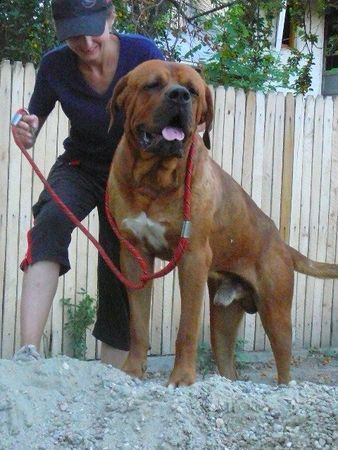human_face: (64, 35, 109, 61)
person: (12, 0, 164, 371)
tosa_inu: (105, 58, 338, 390)
